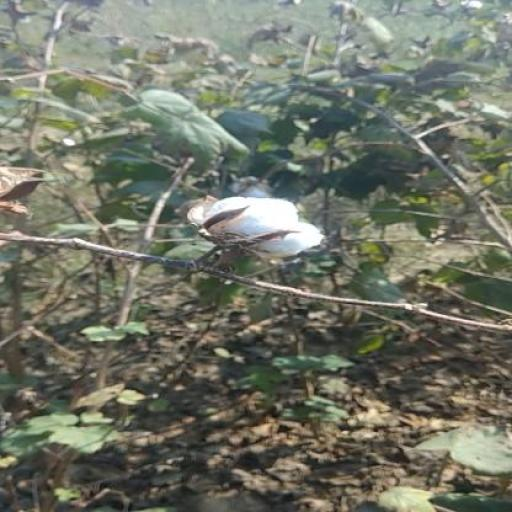cotton_ready: (179, 184, 326, 284)
